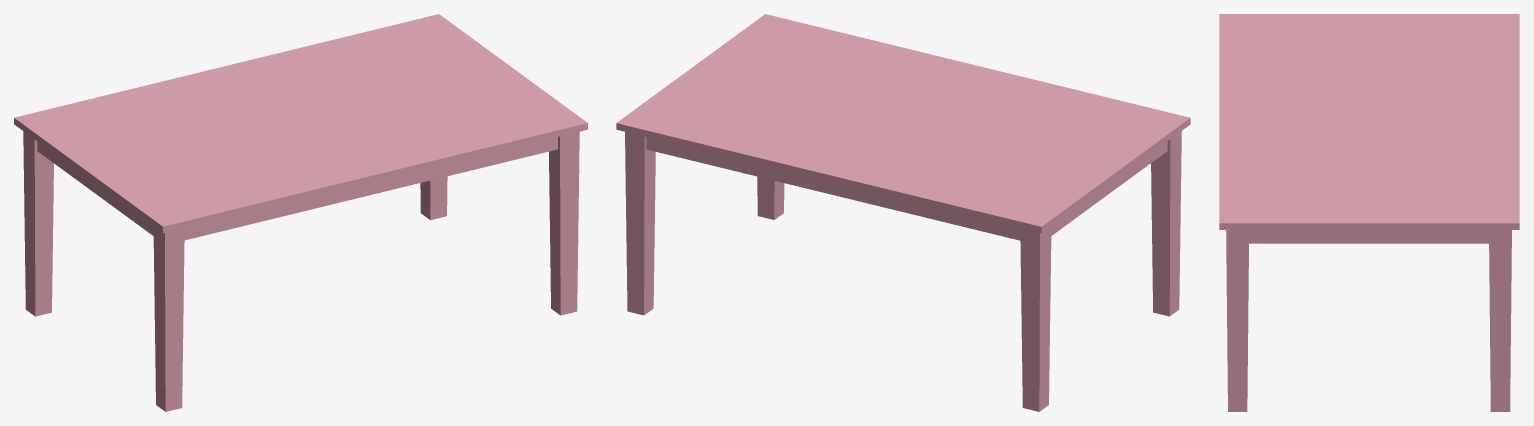
Rendered from TableInterrogation.fbx.
The picture shows the model from 3 angles, left to right: view 1: azimuth 30°, elevation 25°; view 2: azimuth 150°, elevation 25°; view 3: azimuth 270°, elevation 25°; orthographic projection.
Visible parts, largest first — view 1: TableInterrogation; view 2: TableInterrogation; view 3: TableInterrogation.
Boxes of the visible parts, box(x1,y1,x2,y2) form: TableInterrogation: box(14, 14, 587, 411); TableInterrogation: box(616, 14, 1190, 411); TableInterrogation: box(1219, 14, 1519, 411).
Bounding box in the file's own units: 210 × 90 × 128.
